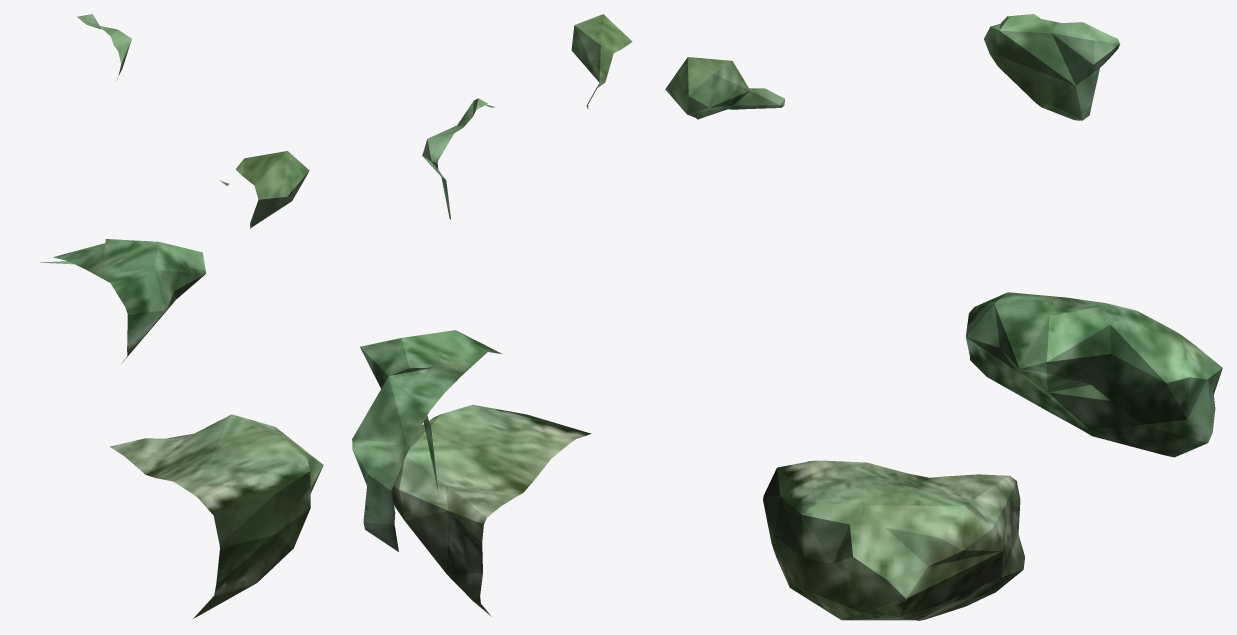
The picture shows the model from 3 angles, left to right: view 1: azimuth 30°, elevation 25°; view 2: azimuth 150°, elevation 25°; view 3: azimuth 270°, elevation 25°; orthographic projection. The views are drawn at different scales.
Bounding box in the file's own units: 0.4671 × 1.5 × 1.28.
1 material, 1 textured.
